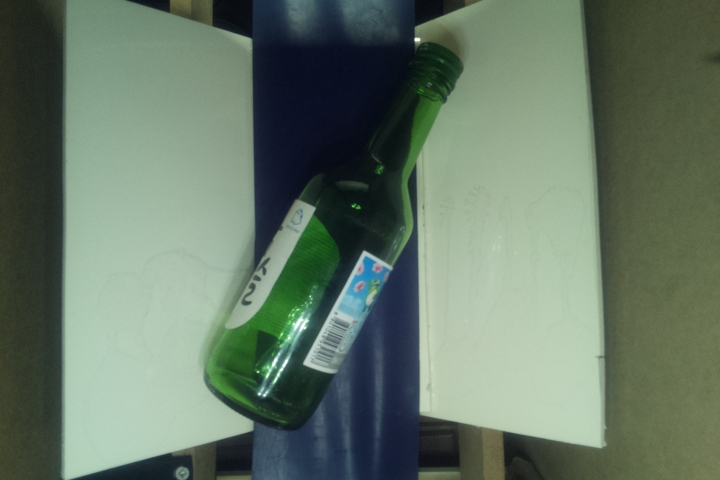soju: (201, 40, 463, 437)
